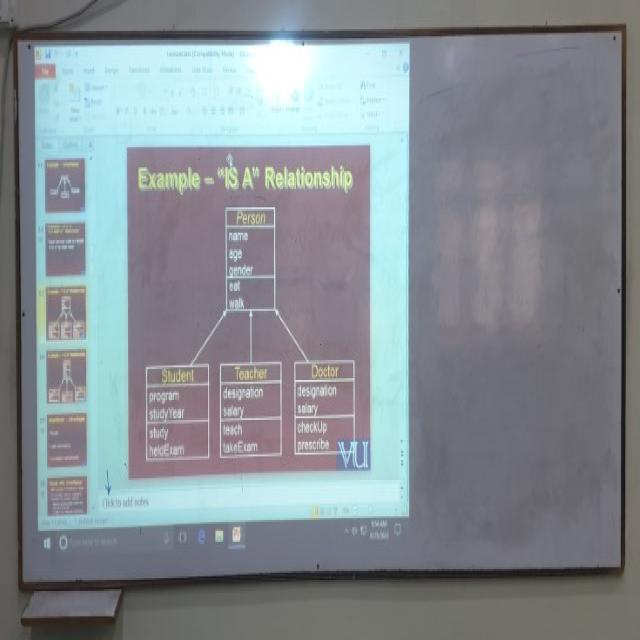Slide: (32, 36, 413, 563)
White-board: (13, 27, 625, 585)
